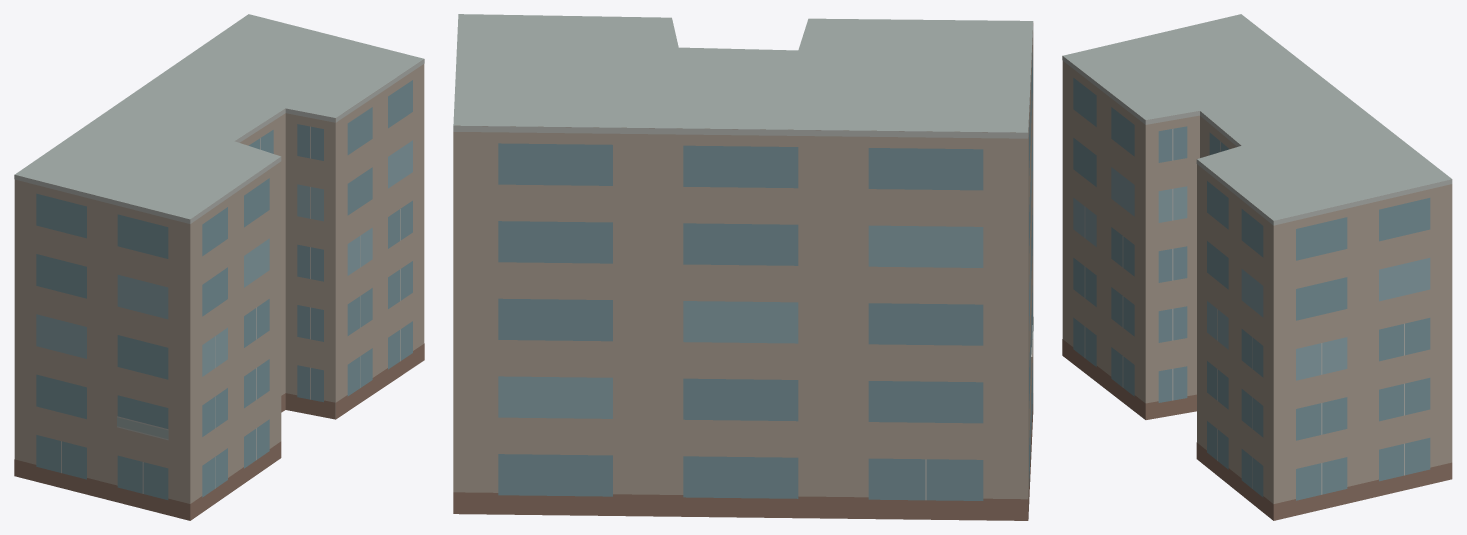
The model's file is survey-upis-32792167.glb.
The picture shows the model from 3 angles, left to right: view 1: azimuth 30°, elevation 25°; view 2: azimuth 150°, elevation 25°; view 3: azimuth 270°, elevation 25°; orthographic projection. The views are drawn at different scales.
Parts seen in each view (by area): view 1: survey-upis-32792167.tmp; view 2: survey-upis-32792167.tmp; view 3: survey-upis-32792167.tmp.
Boxes of the visible parts, x1,y1,x2,y2 form: survey-upis-32792167.tmp: (14, 14, 424, 520); survey-upis-32792167.tmp: (453, 14, 1033, 520); survey-upis-32792167.tmp: (1062, 14, 1452, 520).
Size of the model in its own units: 22.94 by 15.5 by 18.27.
